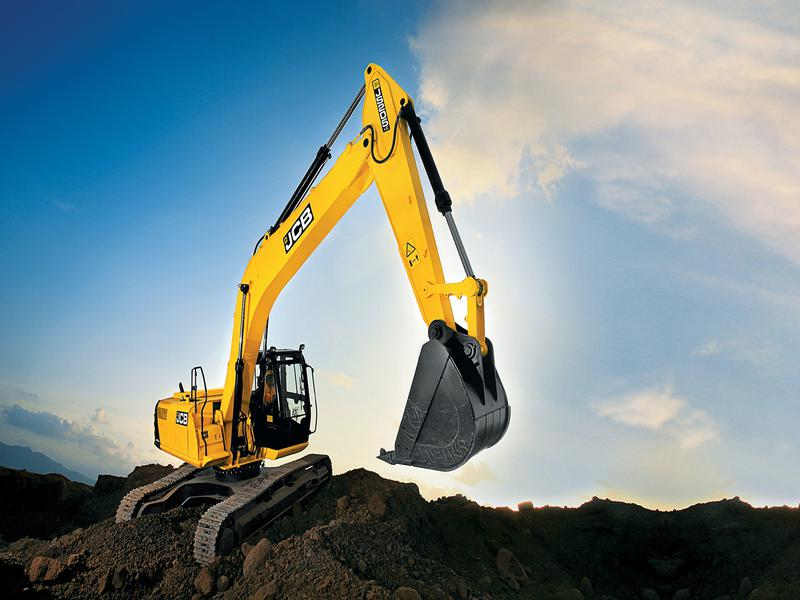shovel: (114, 50, 519, 576)
